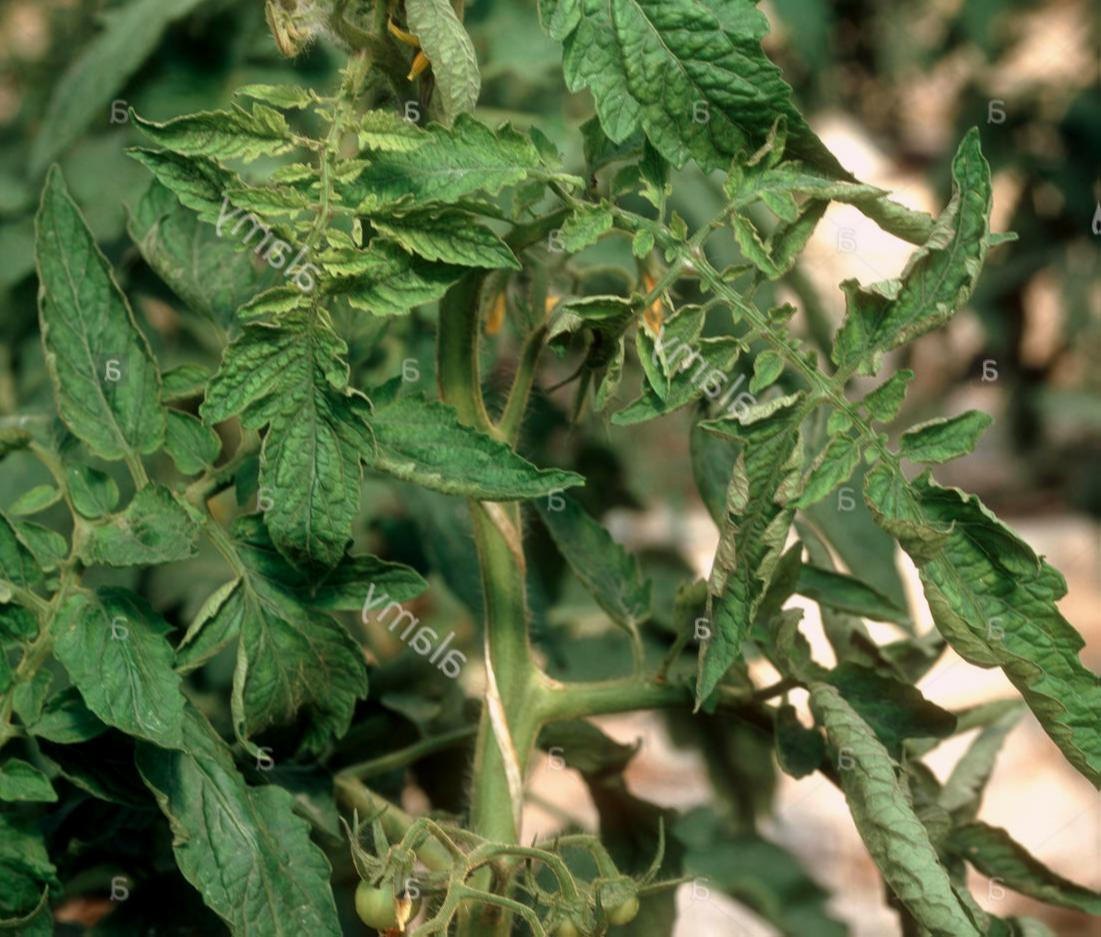Tomato leaf yellow virus: (849, 433, 1101, 835), (451, 0, 820, 200), (199, 305, 372, 598), (131, 86, 310, 178)
